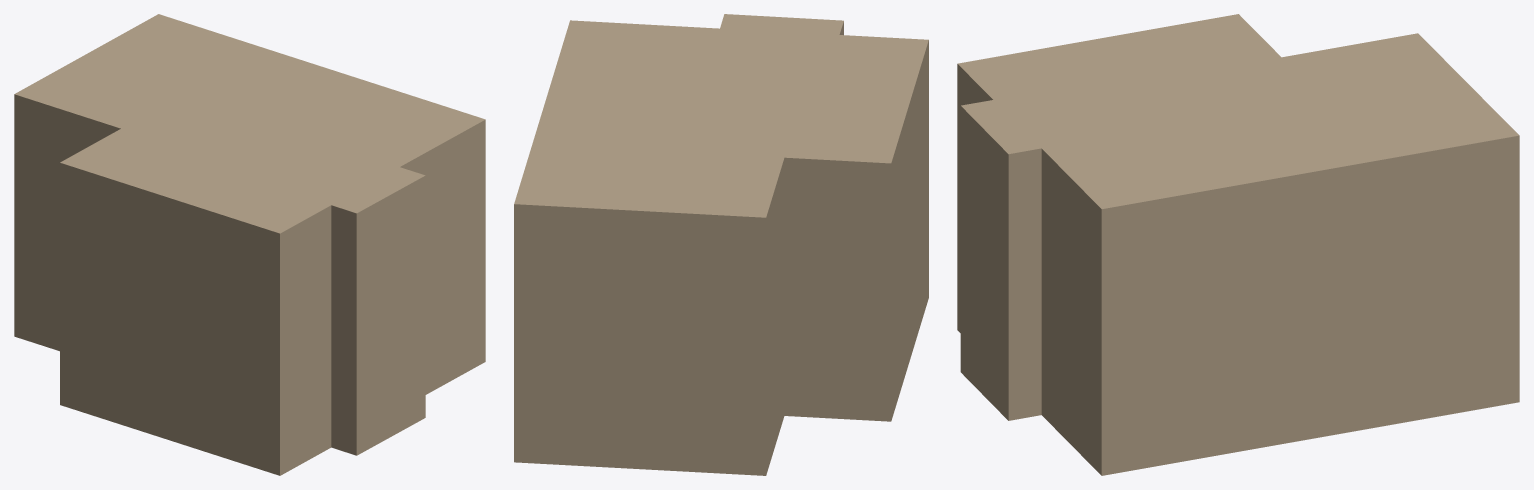
File: bld_106456193.dae
3 views of the same model, side by side, from view 1: azimuth 30°, elevation 25°; view 2: azimuth 150°, elevation 25°; view 3: azimuth 270°, elevation 25° (orthographic). The views are drawn at different scales.
Visible parts, largest first — view 1: bld_106456193; view 2: bld_106456193; view 3: bld_106456193.
Part boxes in pixels (<box>): bld_106456193: <box>14,14,485,475</box>; bld_106456193: <box>514,14,928,475</box>; bld_106456193: <box>957,14,1519,475</box>.
Size of the model in its own units: 12.56 by 15.28 by 8.
